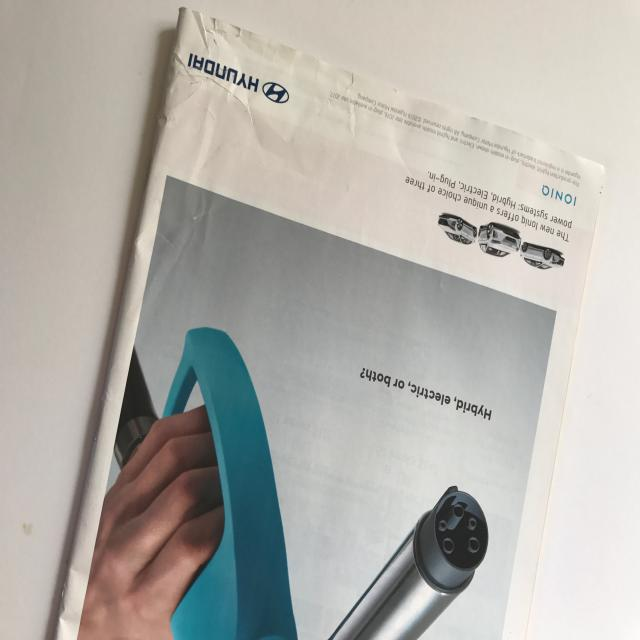paper: (56, 7, 607, 638)
